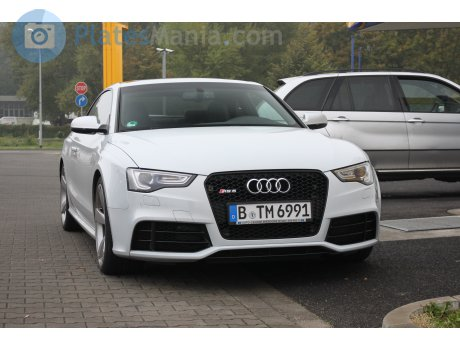License Plates: (234, 204, 312, 217)
